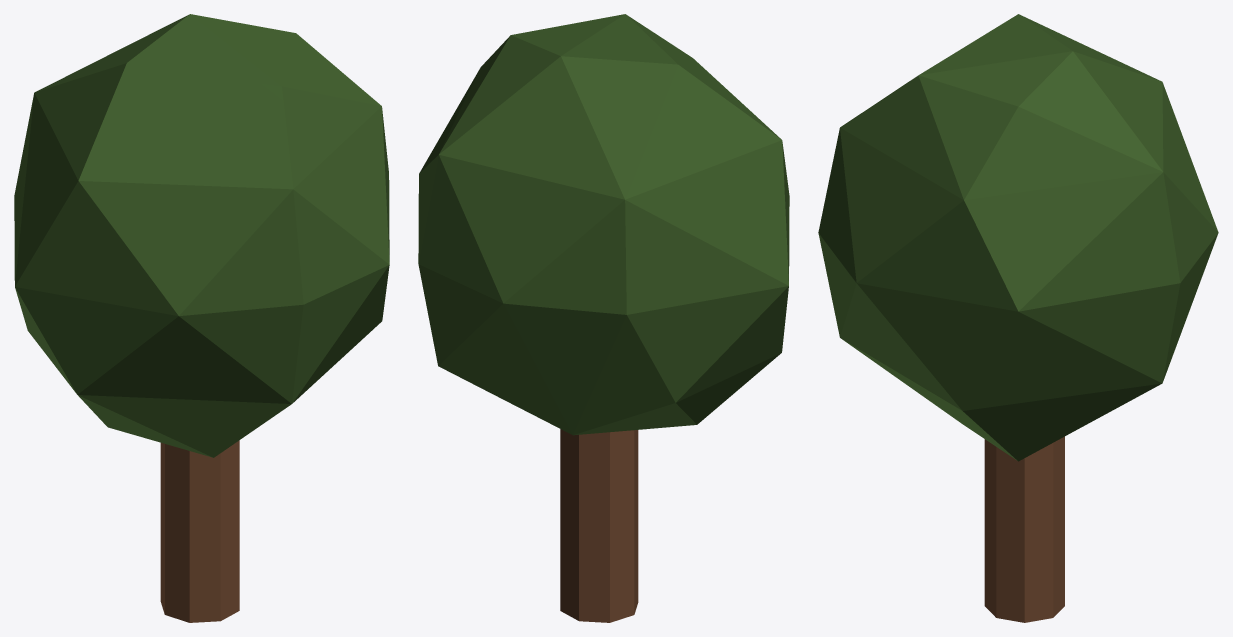
Rendered from Tree_2.fbx.
The picture shows the model from 3 angles, left to right: view 1: azimuth 30°, elevation 25°; view 2: azimuth 150°, elevation 25°; view 3: azimuth 270°, elevation 25°; orthographic projection.
Parts seen in each view (by area): view 1: Tree_2; view 2: Tree_2; view 3: Tree_2.
Boxes of the visible parts, x1=… form: Tree_2: x1=14, y1=14, x2=389, y2=622; Tree_2: x1=418, y1=14, x2=789, y2=622; Tree_2: x1=818, y1=14, x2=1218, y2=622.
Size of the model in its own units: 283 by 413 by 266.
